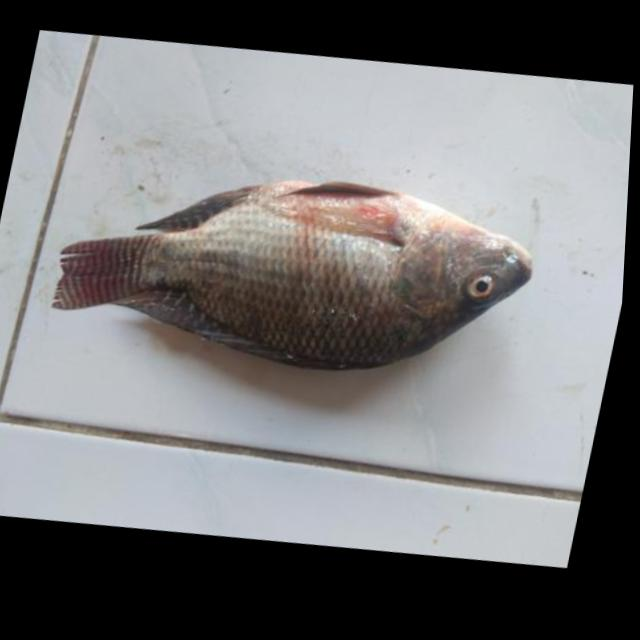Tilapia: (36, 124, 559, 418)
